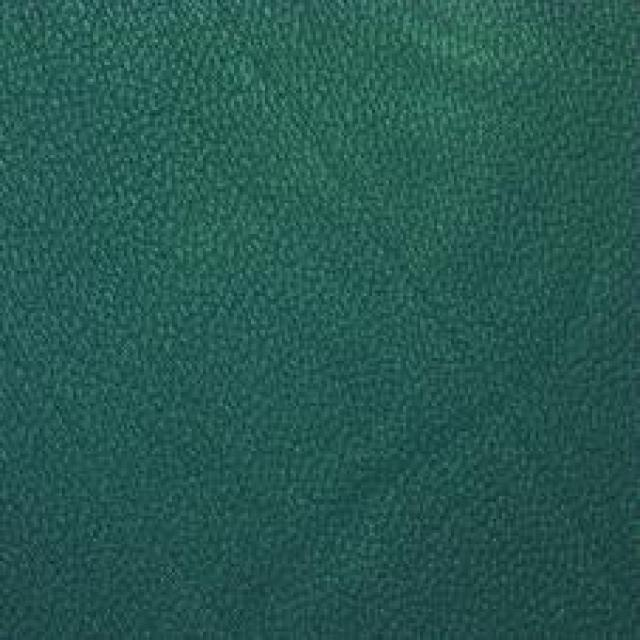Growth Marks: (278, 412, 491, 582), (280, 90, 417, 295)
